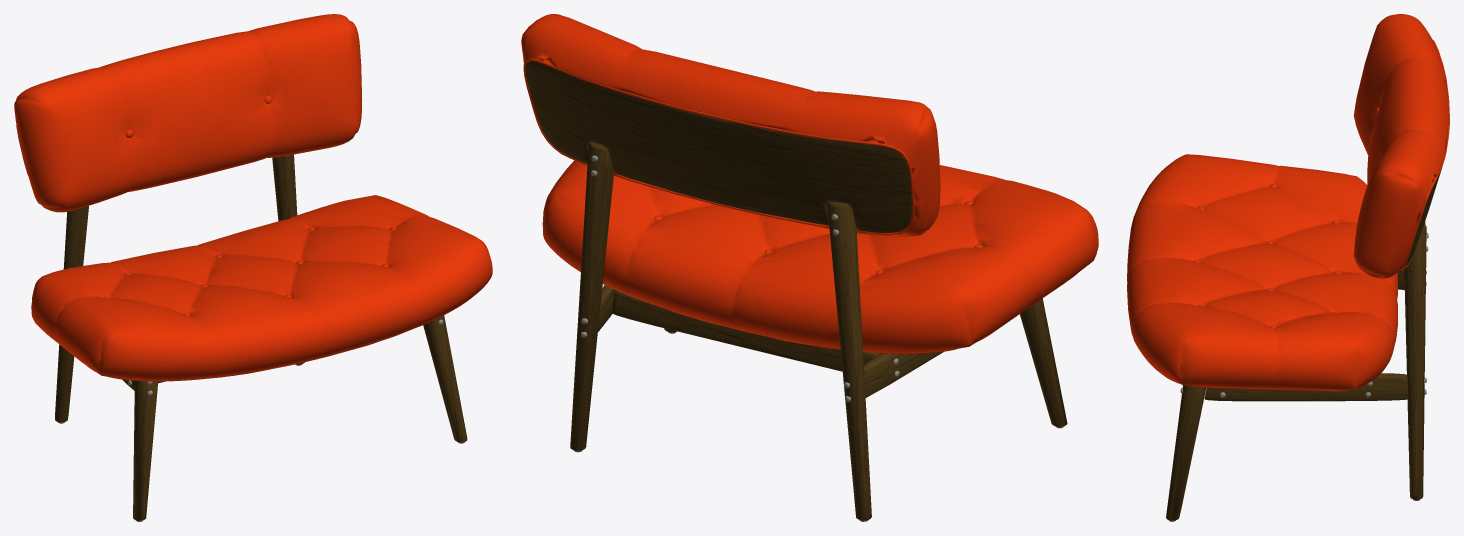
File: chair-sheen.glb
3 renders of one model, left to right at view 1: azimuth 30°, elevation 25°; view 2: azimuth 150°, elevation 25°; view 3: azimuth 270°, elevation 25°, orthographic. The views are drawn at different scales.
Visible parts, largest first — view 1: SheenChair_fabric, SheenChair_wood; view 2: SheenChair_fabric, SheenChair_wood; view 3: SheenChair_fabric, SheenChair_wood.
Part boxes in pixels (left/top/right/bottom): SheenChair_fabric: left=14, top=14, right=492, bottom=381; SheenChair_wood: left=55, top=154, right=467, bottom=520; SheenChair_fabric: left=521, top=14, right=1098, bottom=354; SheenChair_wood: left=525, top=61, right=1067, bottom=520; SheenChair_fabric: left=1127, top=14, right=1449, bottom=391; SheenChair_wood: left=1166, top=168, right=1441, bottom=520.
Size of the model in its own units: 0.8265 by 0.6861 by 0.57.
Materials: 4 (3 with a texture image).
